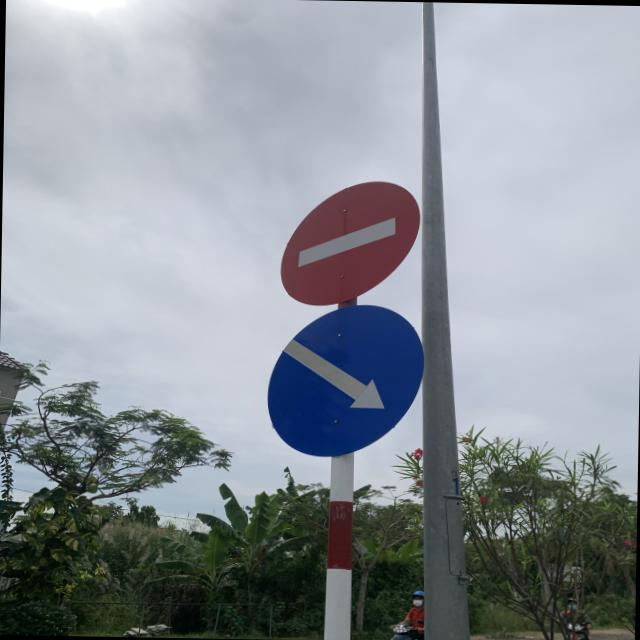Cam_Di_Nguoc_Chieu: (282, 180, 426, 310)
Chi_Huong_Di_Phai: (267, 303, 428, 459)
